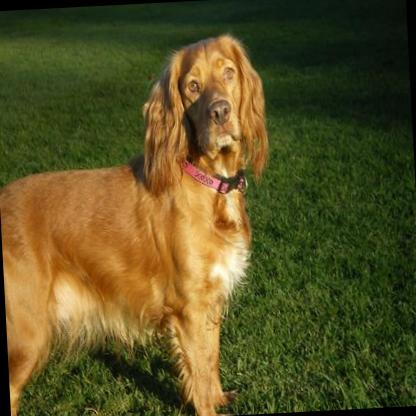cocker_spaniel: (0, 30, 281, 416)
